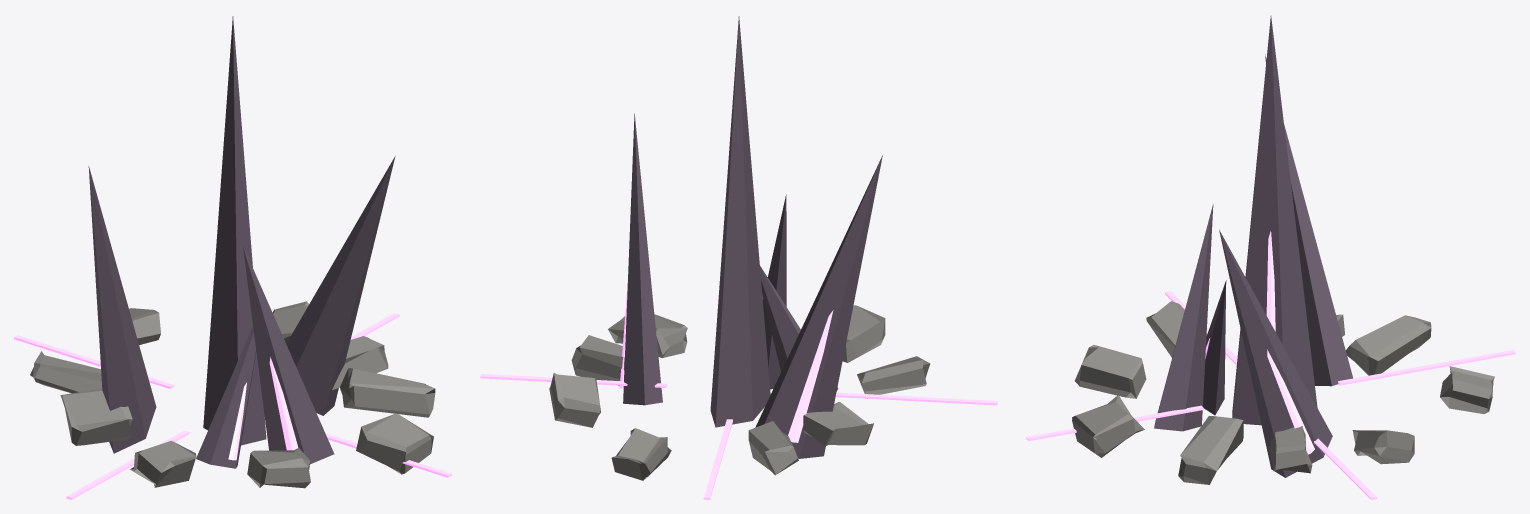
The model's file is v_alien_spike.glb.
The picture shows the model from 3 angles, left to right: view 1: azimuth 30°, elevation 25°; view 2: azimuth 150°, elevation 25°; view 3: azimuth 270°, elevation 25°; orthographic projection. The views are drawn at different scales.
Parts seen in each view (by area): view 1: Alien_spike; view 2: Alien_spike; view 3: Alien_spike.
Boxes of the visible parts, left/top/right/bottom form: Alien_spike: left=14, top=16, right=451, bottom=499; Alien_spike: left=480, top=16, right=997, bottom=499; Alien_spike: left=1026, top=15, right=1515, bottom=499.
Size of what is drawn, in the model's own units: 4.63 by 4.32 by 4.63.
